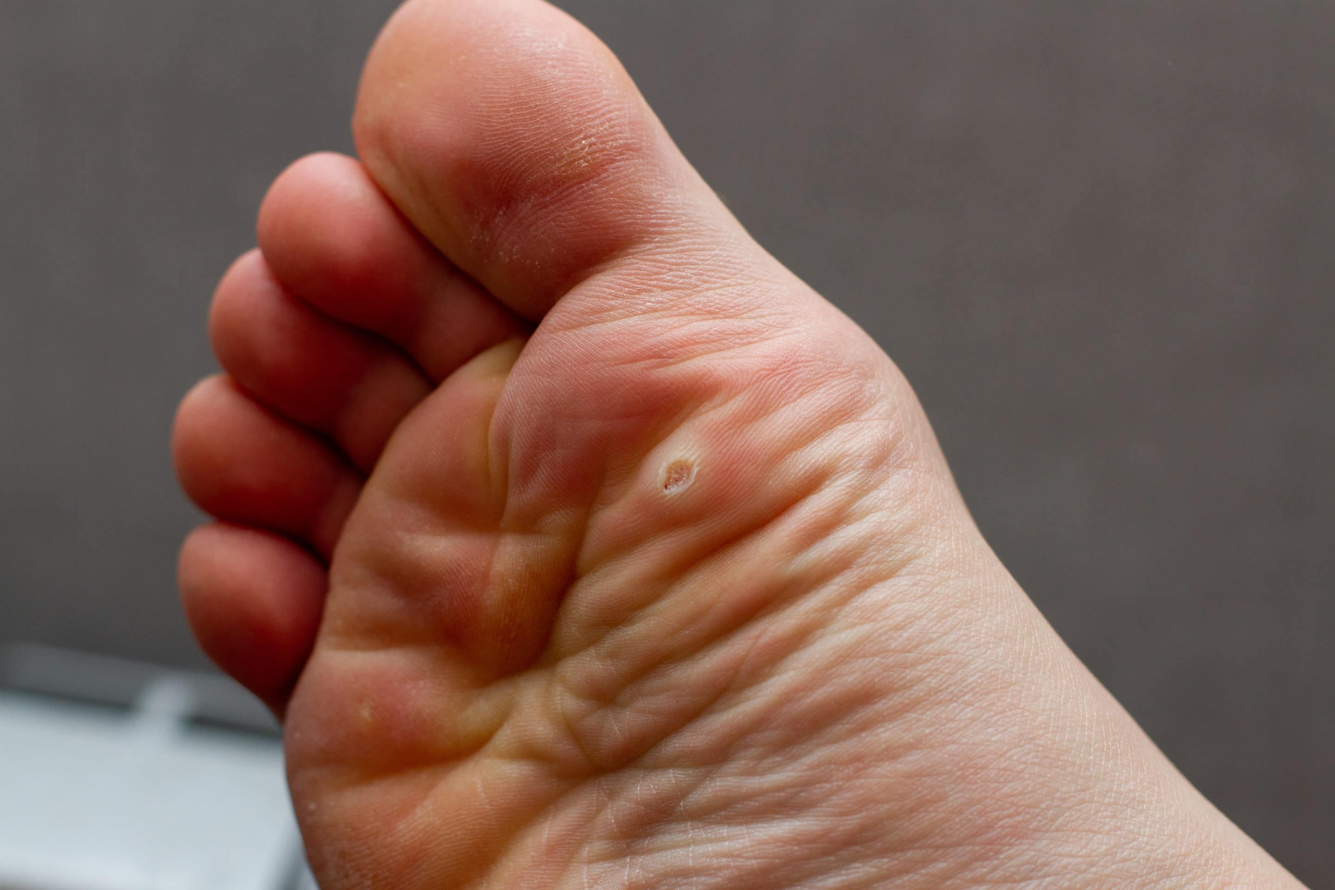Warts: (631, 422, 758, 524)
